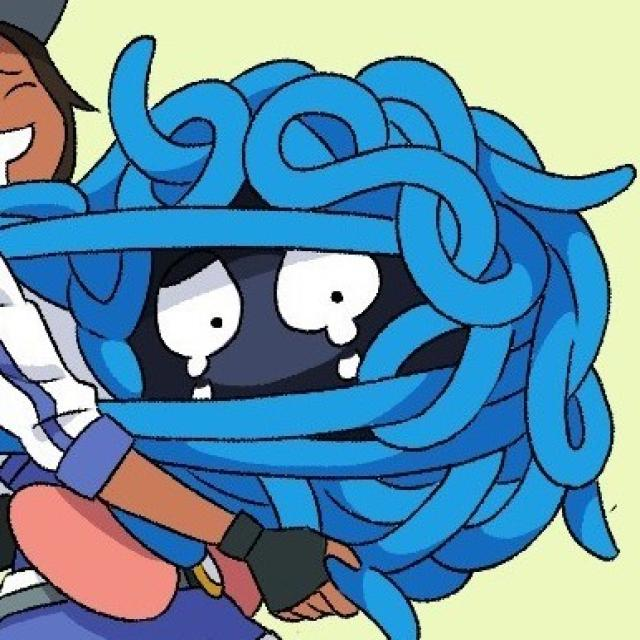Tangela: (70, 69, 582, 615)
